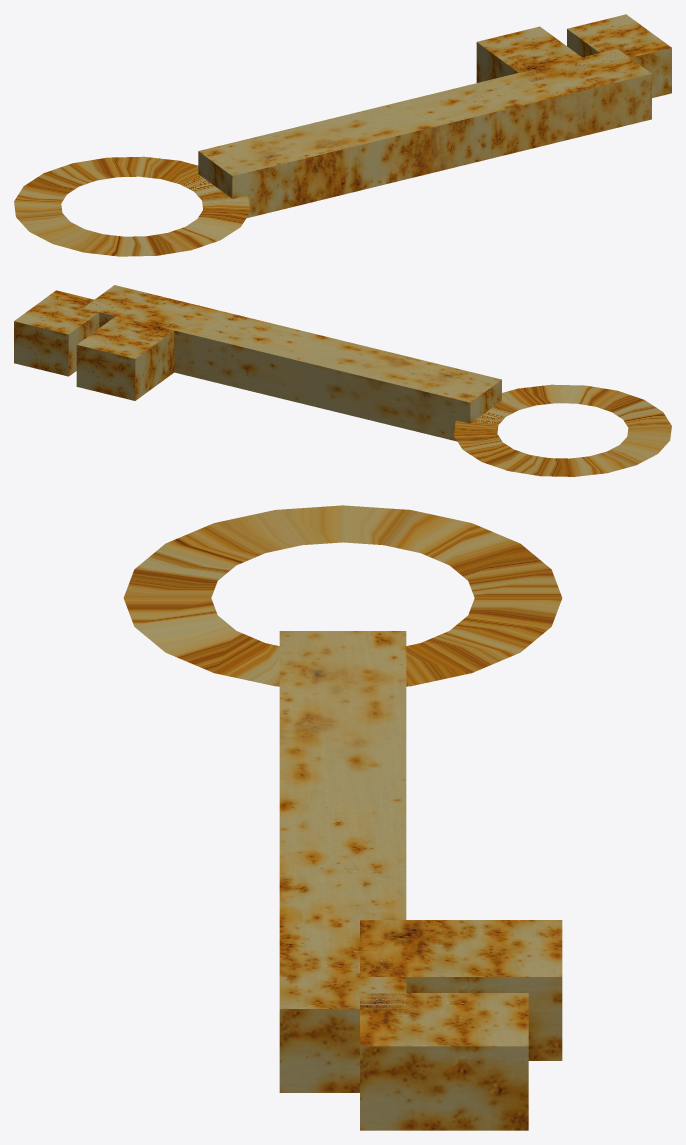
Rendered from key.glb.
The picture shows the model from 3 angles, top to bottom: view 1: azimuth 30°, elevation 25°; view 2: azimuth 150°, elevation 25°; view 3: azimuth 270°, elevation 25°; orthographic projection. The views are drawn at different scales.
Bounding box in the file's own units: 0.8175 × 0.055 × 0.26.
Materials: 1 (1 with a texture image).
